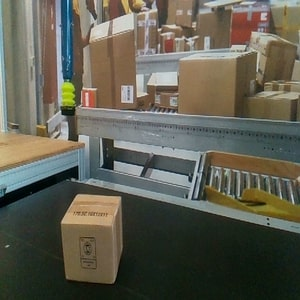box: (60, 193, 124, 285)
